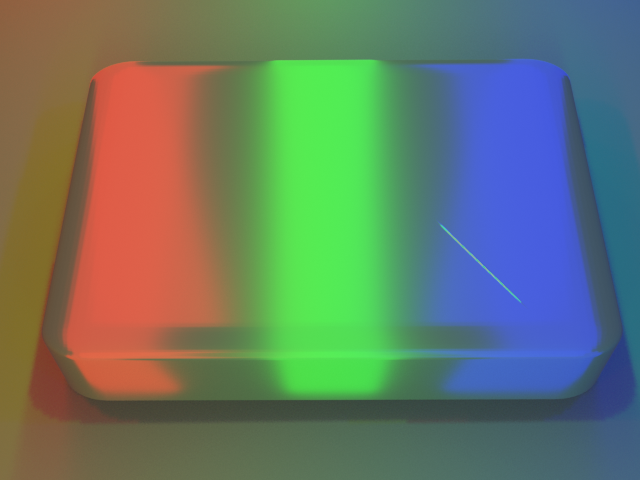scratch: (291, 152, 629, 363)
